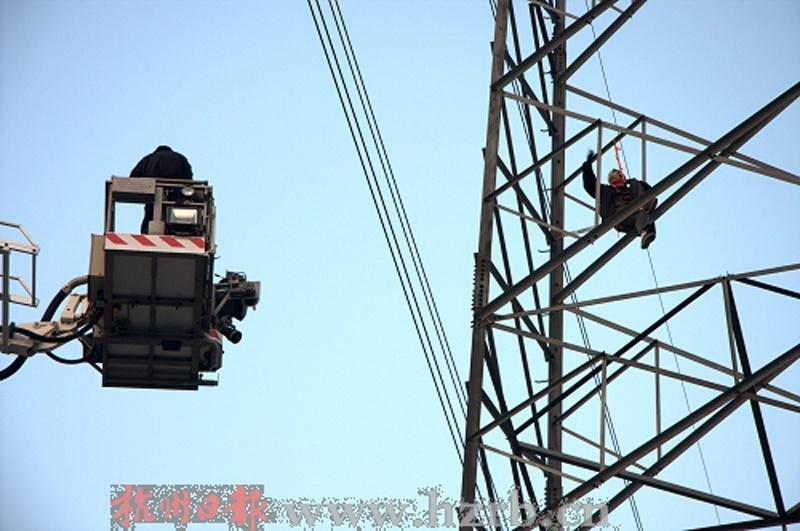power_tower: (436, 12, 794, 504)
